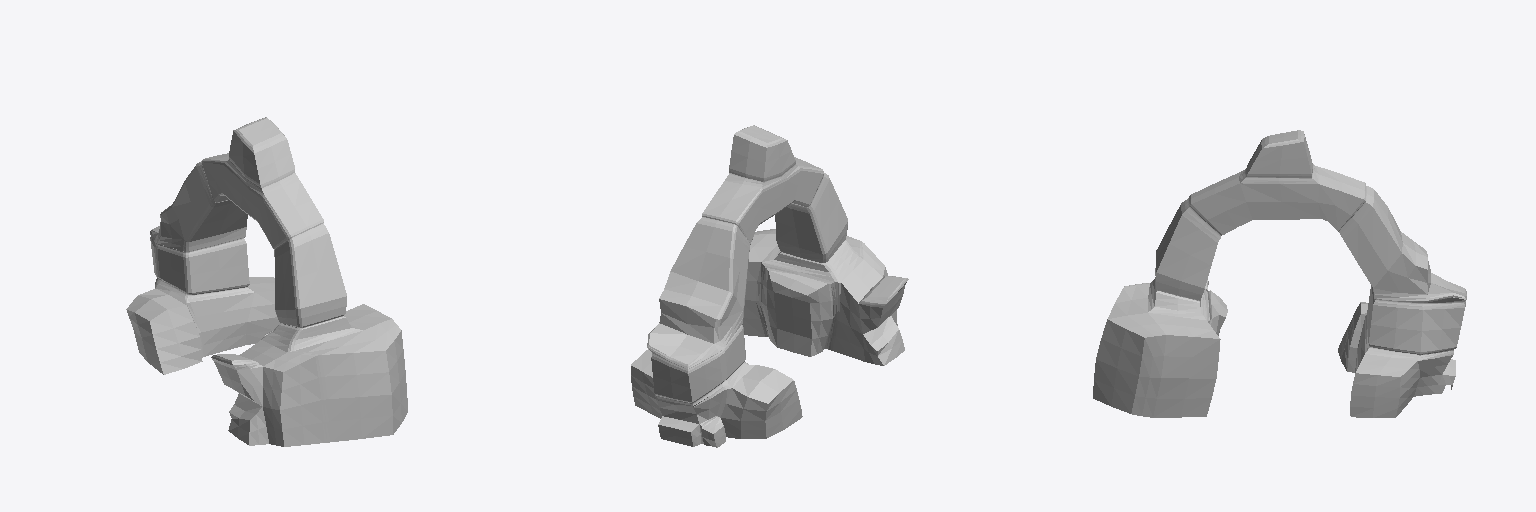
File: Low_Poly_Arch.obj
3 views of the same model, side by side, from view 1: azimuth 30°, elevation 25°; view 2: azimuth 150°, elevation 25°; view 3: azimuth 270°, elevation 25° (orthographic).
Visible parts, largest first — view 1: Cube.001_Cube.003; view 2: Cube.001_Cube.003; view 3: Cube.001_Cube.003.
Boxes of the visible parts, box(x1,y1,x2,y2) form: Cube.001_Cube.003: box(126, 117, 407, 446); Cube.001_Cube.003: box(631, 125, 908, 447); Cube.001_Cube.003: box(1093, 130, 1466, 417).
Size of the model in its own units: 3.48 by 5.1 by 6.85.